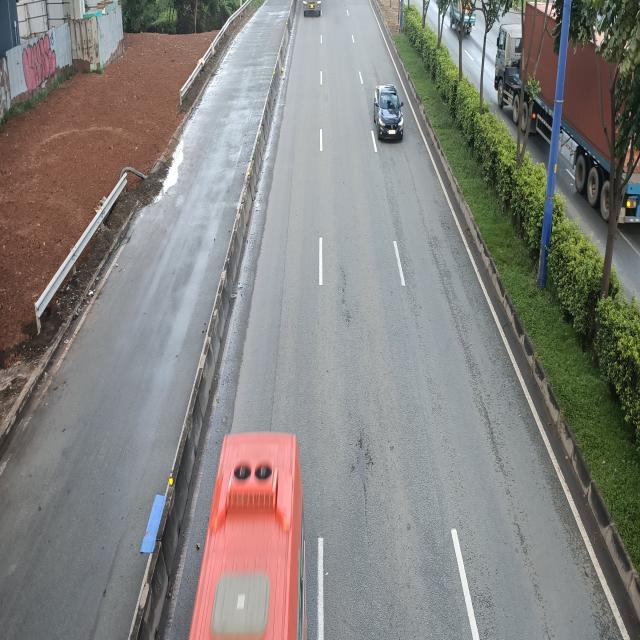car: (374, 84, 404, 141)
van: (183, 430, 307, 640)
